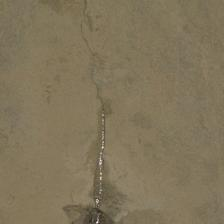Crack: (0, 3, 102, 56), (1, 39, 111, 67)
